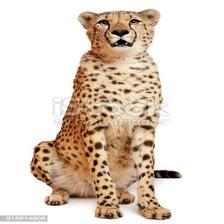Cheetah: (32, 6, 183, 224)
